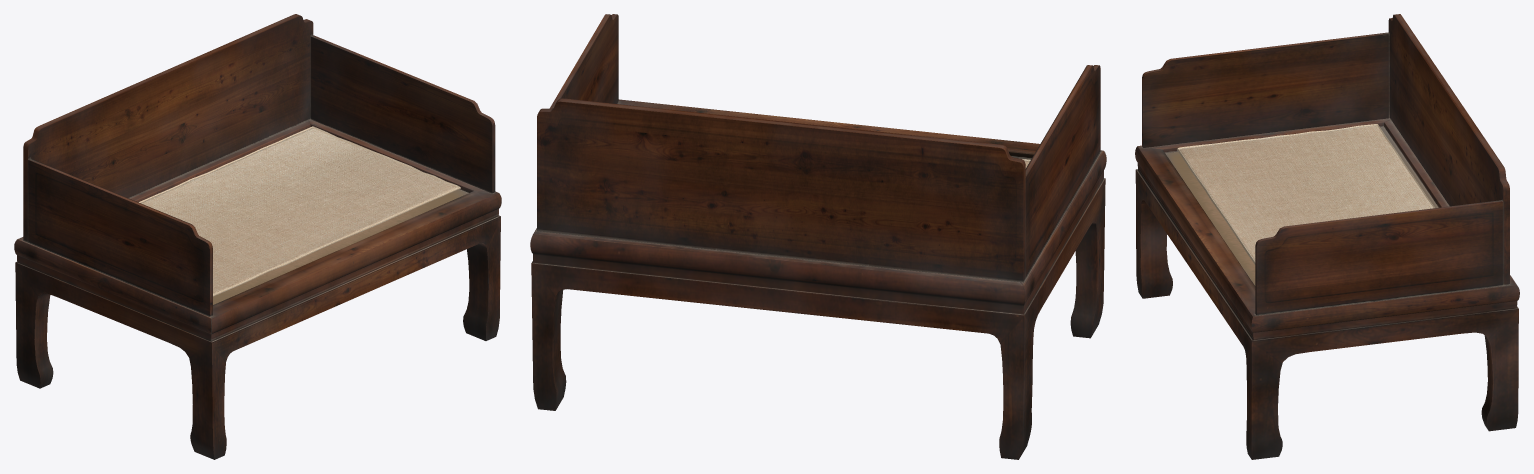
3 renders of one model, left to right at view 1: azimuth 30°, elevation 25°; view 2: azimuth 150°, elevation 25°; view 3: azimuth 270°, elevation 25°, orthographic. The views are drawn at different scales.
Visible parts, largest first — view 1: 3d66-Editable_mesh-21282129-004, 3d66-Editable_mesh-29950395-001; view 2: 3d66-Editable_mesh-21282129-004; view 3: 3d66-Editable_mesh-21282129-004, 3d66-Editable_mesh-29950395-001.
Boxes of the visible parts, x1,y1,x2,y2 form: 3d66-Editable_mesh-21282129-004: (14, 14, 501, 459); 3d66-Editable_mesh-29950395-001: (139, 126, 460, 296); 3d66-Editable_mesh-21282129-004: (530, 14, 1106, 459); 3d66-Editable_mesh-21282129-004: (1135, 14, 1519, 459); 3d66-Editable_mesh-29950395-001: (1177, 124, 1434, 264).
Size of the model in its own units: 1.85 by 1.07 by 1.47.
2 materials, 2 textured.
